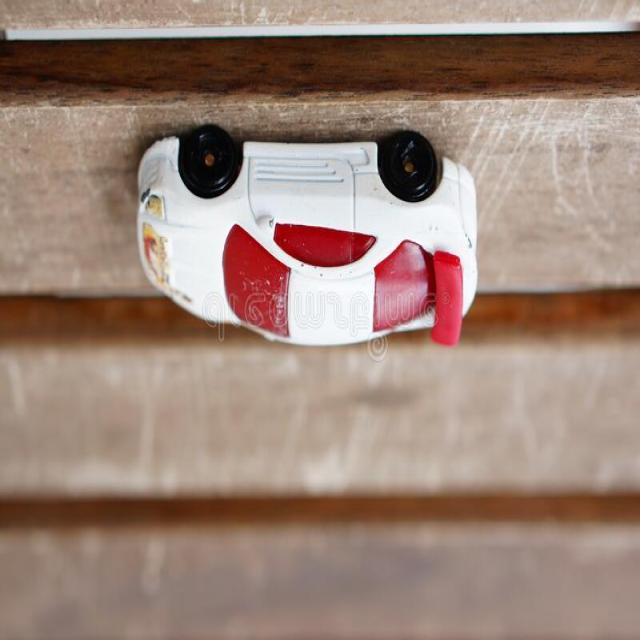Car: (136, 125, 478, 350)
